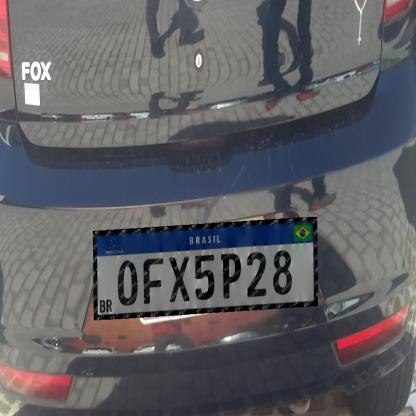PlacaM: (93, 217, 318, 320)
